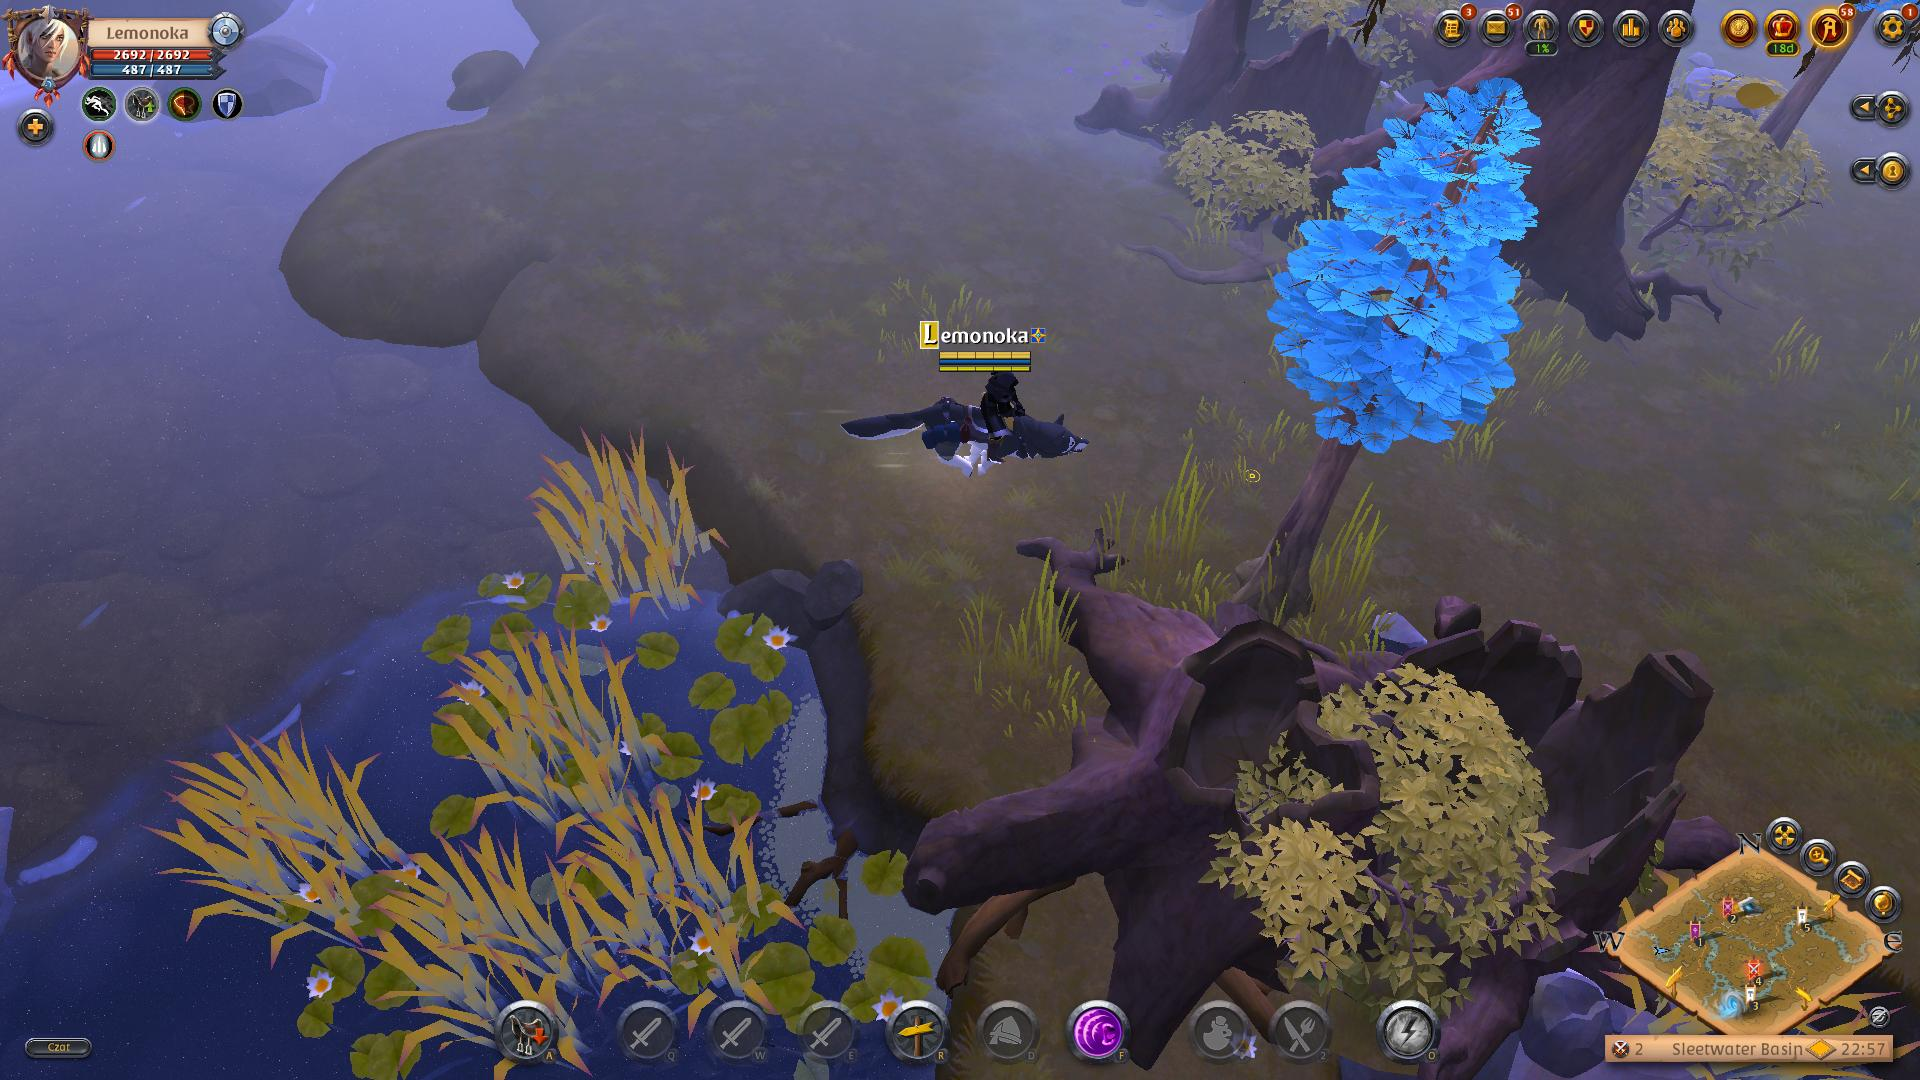wood tier 4: (1269, 71, 1547, 459)
